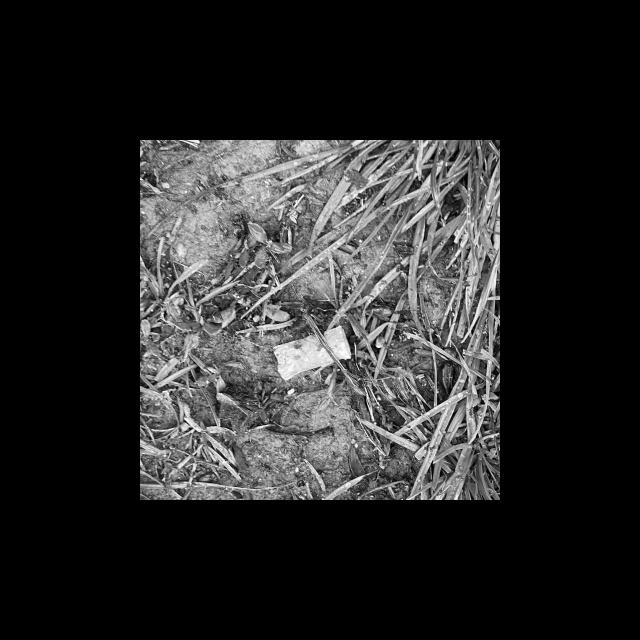cigarette: (272, 324, 352, 381)
